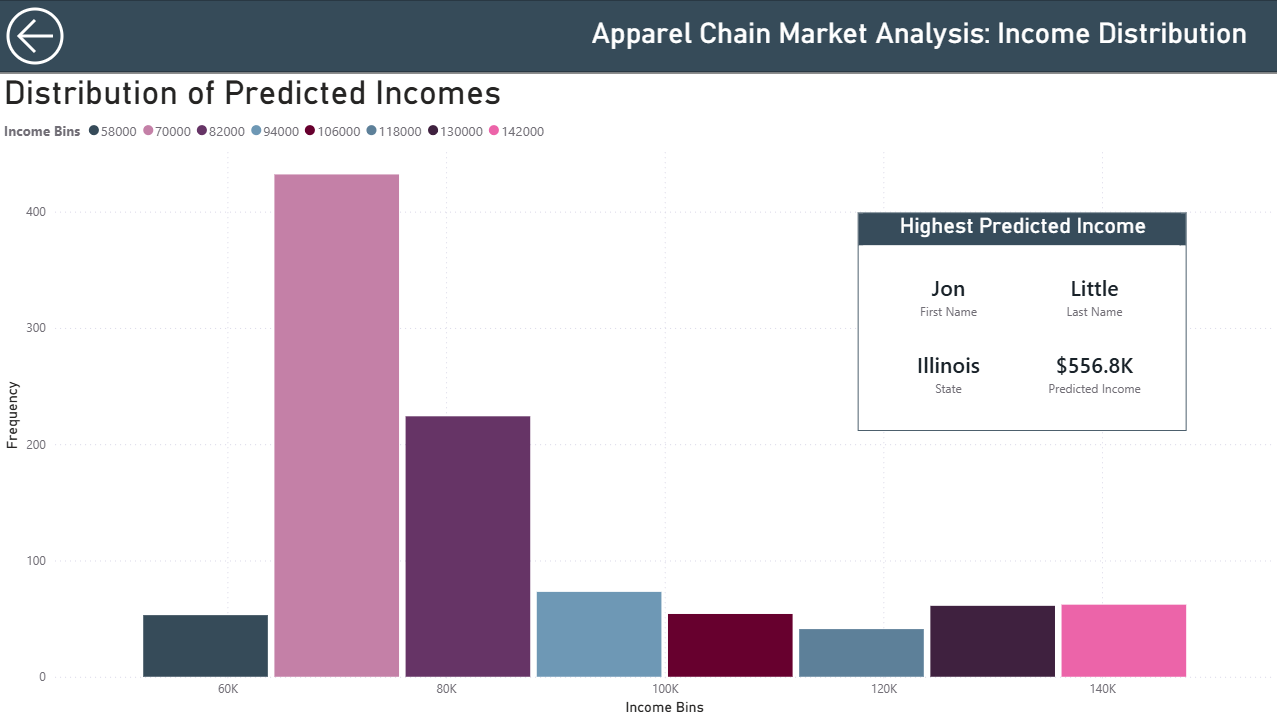

The page's visual inventory and layout, read from the dashboard file:
{"tool":"powerbi","page":{"name":"Income Histogram","canvas":[1280,720],"ordinal":2},"visuals":[{"type":"shape","box":[0,0,1280,72],"z":0,"group":"g2"},{"type":"columnChart","title":"Distribution of Predicted Incomes","fields":{"Y":["Customers.Count of Income"],"Series":["Customers.Income Bins"],"Category":["Customers.Income Bins"]},"box":[0,72,1280,648],"z":0},{"type":"textbox","box":[587,11,693,49],"z":1000,"group":"g2"},{"type":"cardVisual","title":"Highest Predicted Income","fields":{"Data":["Customers.Max Income CustFirstName","Customers.Max Income CustLastName","Customers.Max Income State","Customers.Top Income Customer"]},"box":[859,213,329,218],"z":1000},{"type":"group","id":"g1","title":"Header","box":[0,0,1280,72],"z":2000},{"type":"group","id":"g2","title":"Header","box":[0,0,1280,72],"z":2000,"group":"g1"},{"type":"actionButton","title":"Back Button","box":[0,0,83,72],"z":2500,"group":"g1"}]}

Visuals, with their boxes in screenshot pixels (x1, y1, x2, y2), scaled from the page's 1280x720 canvas onto the 1277x718 screenshot:
shape: [left=0, top=0, right=1276, bottom=72]
"Distribution of Predicted Incomes" columnChart: [left=0, top=72, right=1276, bottom=717]
textbox: [left=586, top=11, right=1276, bottom=60]
"Highest Predicted Income" cardVisual: [left=857, top=212, right=1185, bottom=430]
"Header" group: [left=0, top=0, right=1276, bottom=72]
"Header" group: [left=0, top=0, right=1276, bottom=72]
"Back Button" actionButton: [left=0, top=0, right=83, bottom=72]
